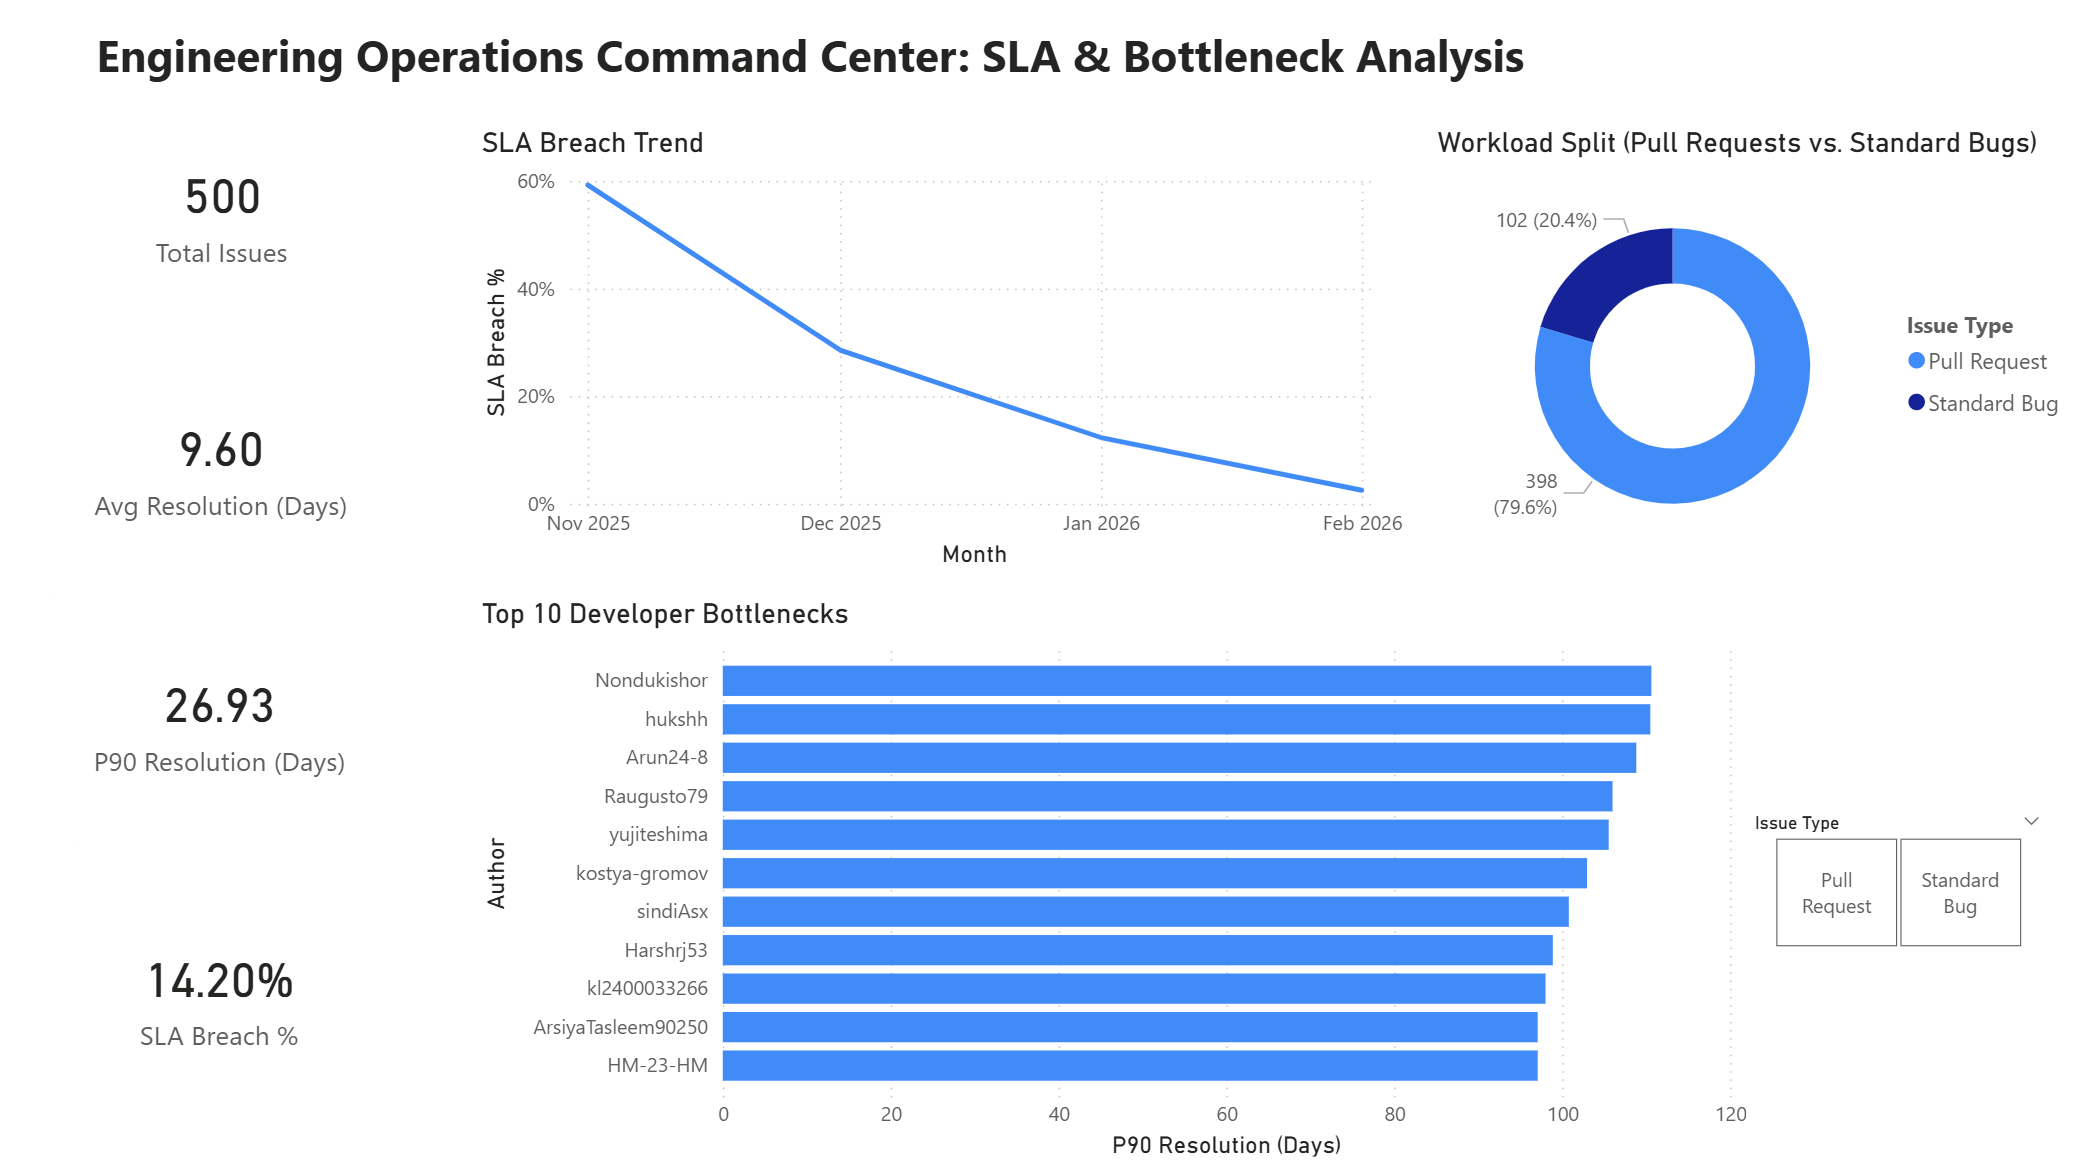

The page's visual inventory and layout, read from the dashboard file:
{"tool":"powerbi","page":{"name":"Dashboard","canvas":[1280,720],"ordinal":0},"visuals":[{"type":"card","fields":{"Values":["vw_clean_github_metrics.Total Issues"]},"box":[10,0,280,280],"z":0},{"type":"card","fields":{"Values":["vw_clean_github_metrics.SLA Breach %"]},"box":[61.4,523.7,175,184.2],"z":1000},{"type":"card","fields":{"Values":["vw_clean_github_metrics.P90 Resolution (Days)"]},"box":[9.3,374.3,279.3,149.5],"z":2000},{"type":"card","fields":{"Values":["vw_clean_github_metrics.Avg Resolution (Days)"]},"box":[46.3,205.1,206.3,177.3],"z":3000},{"type":"lineChart","title":"SLA Breach Trend","fields":{"Y":["vw_clean_github_metrics.SLA Breach %"],"Category":["vw_clean_github_metrics.cohort_month.Variation.Date Hierarchy.Year","vw_clean_github_metrics.cohort_month.Variation.Date Hierarchy.Quarter","vw_clean_github_metrics.cohort_month.Variation.Date Hierarchy.Month","vw_clean_github_metrics.cohort_month.Variation.Date Hierarchy.Day"]},"box":[303.6,88.1,568.9,272.3],"z":4000},{"type":"donutChart","title":"Workload Split (Pull Requests vs. Standard Bugs)","fields":{"Y":["vw_clean_github_metrics.Total Issues"],"Category":["vw_clean_github_metrics.Issue Type"]},"box":[883,88,397,272],"z":5000},{"type":"clusteredBarChart","title":"Top 10 Developer Bottlenecks","fields":{"Category":["vw_clean_github_metrics.Author"],"Y":["vw_clean_github_metrics.P90 Resolution (Days)"]},"box":[303.6,374.3,777.5,345.3],"z":6000},{"type":"textbox","box":[61.7,21.7,1006.7,51.7],"z":7000},{"type":"slicer","fields":{"Values":["vw_clean_github_metrics.Issue Type"]},"box":[1068.3,500,198.3,93.3],"z":7001}]}

Visuals, with their boxes in screenshot pixels (x1, y1, x2, y2), scaled from the page's 1280x720 canvas onto the 2074x1161 screenshot:
card - vw_clean_github_metrics.Total Issues: <bbox>16, 0, 470, 452</bbox>
card - vw_clean_github_metrics.SLA Breach %: <bbox>99, 844, 383, 1141</bbox>
card - vw_clean_github_metrics.P90 Resolution (Days): <bbox>15, 604, 468, 845</bbox>
card - vw_clean_github_metrics.Avg Resolution (Days): <bbox>75, 331, 409, 617</bbox>
"SLA Breach Trend" lineChart: <bbox>492, 142, 1414, 581</bbox>
"Workload Split (Pull Requests vs. Standard Bugs)" donutChart: <bbox>1431, 142, 2073, 580</bbox>
"Top 10 Developer Bottlenecks" clusteredBarChart: <bbox>492, 604, 1752, 1160</bbox>
textbox: <bbox>100, 35, 1731, 118</bbox>
slicer - vw_clean_github_metrics.Issue Type: <bbox>1731, 806, 2052, 957</bbox>
